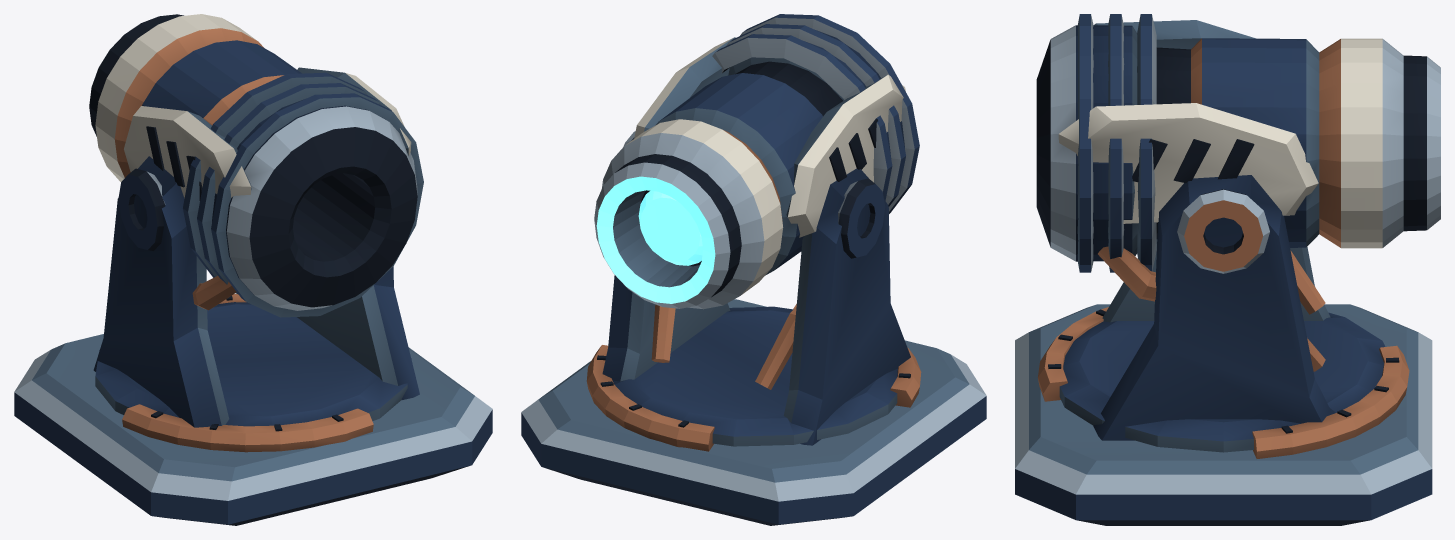
The model's file is laser.glb.
3 views of the same model, side by side, from view 1: azimuth 30°, elevation 25°; view 2: azimuth 150°, elevation 25°; view 3: azimuth 270°, elevation 25° (orthographic). The views are drawn at different scales.
Parts seen in each view (by area): view 1: laser; view 2: laser; view 3: laser.
Part boxes in pixels (<box>): laser: <box>14,14,492,525</box>; laser: <box>521,14,986,525</box>; laser: <box>1015,14,1440,525</box>.
Bounding box in the file's own units: 0.98 × 1.08 × 0.98.
